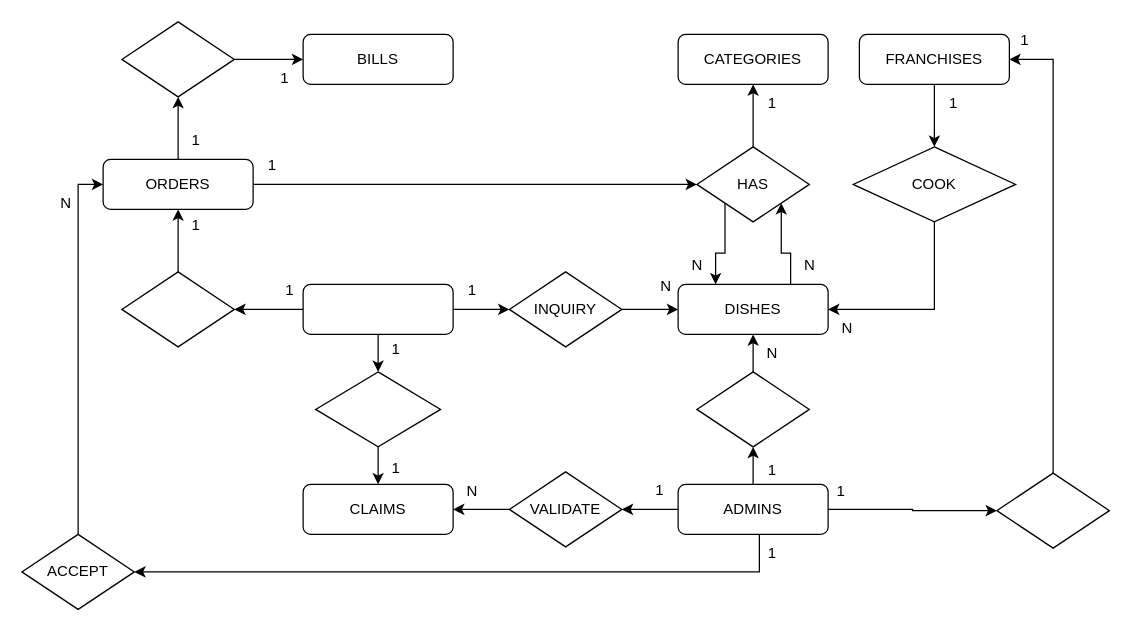
Image size: 1131x631. Some labels were removed from this diagram. Each missing label, with the centre of its shape:
"BUILD" goes at [177,59].
"CARRYOUT" goes at [377,409].
"CLIENTS" goes at [377,308].
"MAKE" goes at [177,309].
"OWN" goes at [1052,510].
"UPDATE" goes at [752,409].
